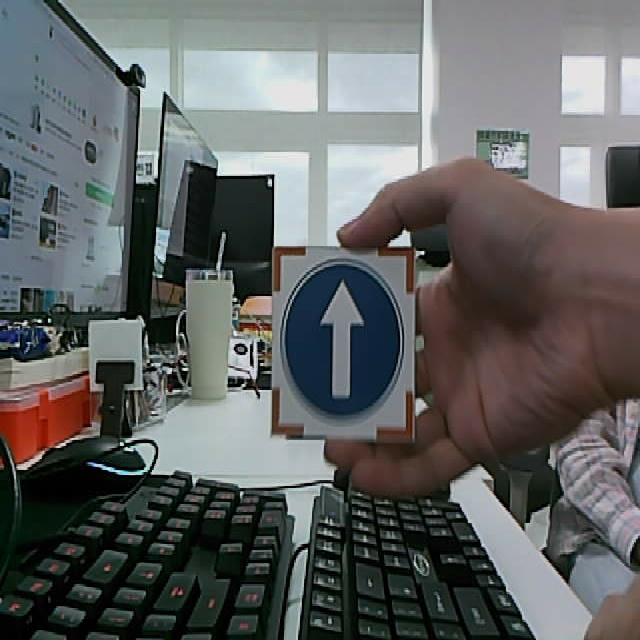straight: (268, 245, 417, 441)
